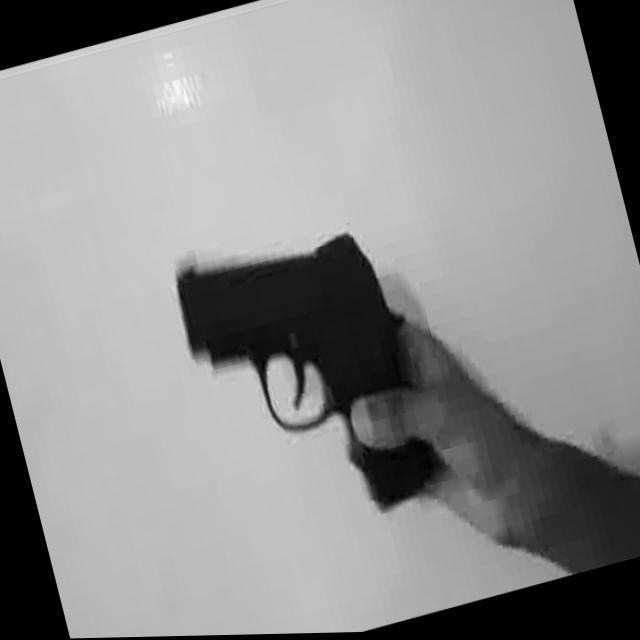weapon: (169, 210, 437, 500)
